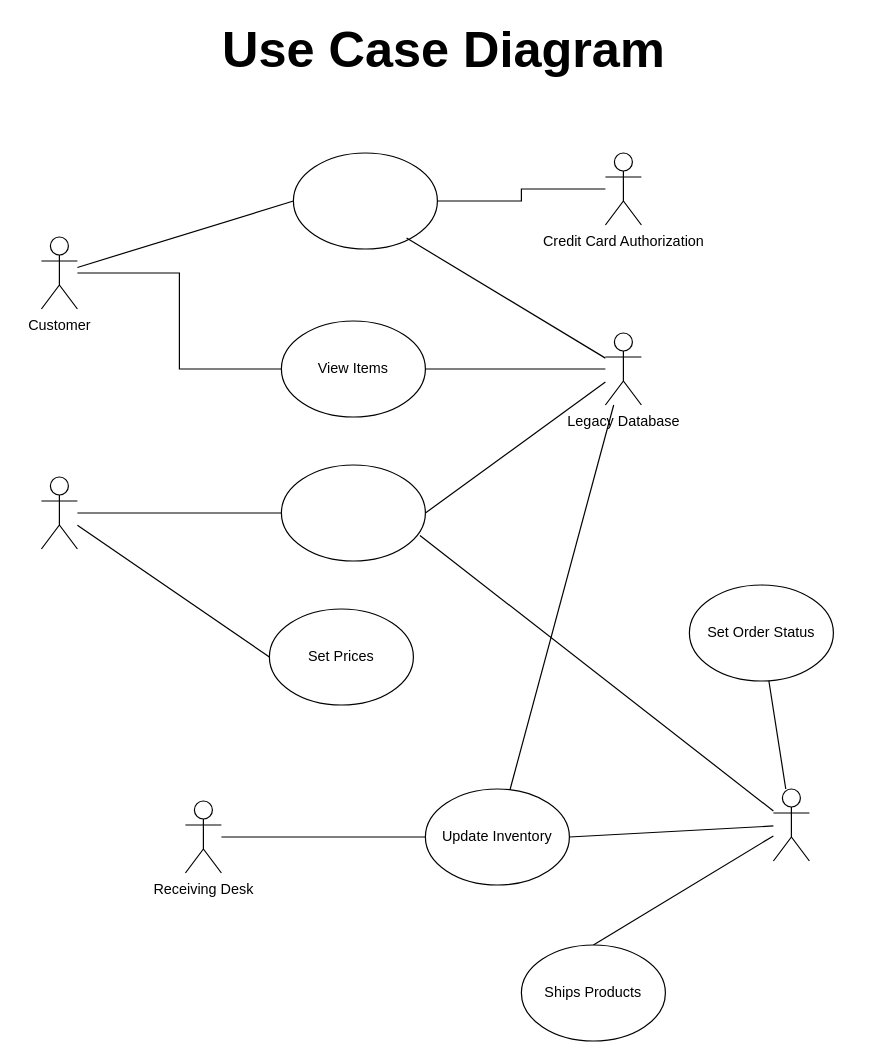
Image size: 874x1062. Some labels were removed from this diagram. Each missing label, with the box of its shape:
Aministrator: (40, 476, 77, 549)
Purchase Items: (292, 152, 437, 249)
View Orders: (280, 464, 425, 561)
Warehouse Worker: (772, 788, 809, 861)
